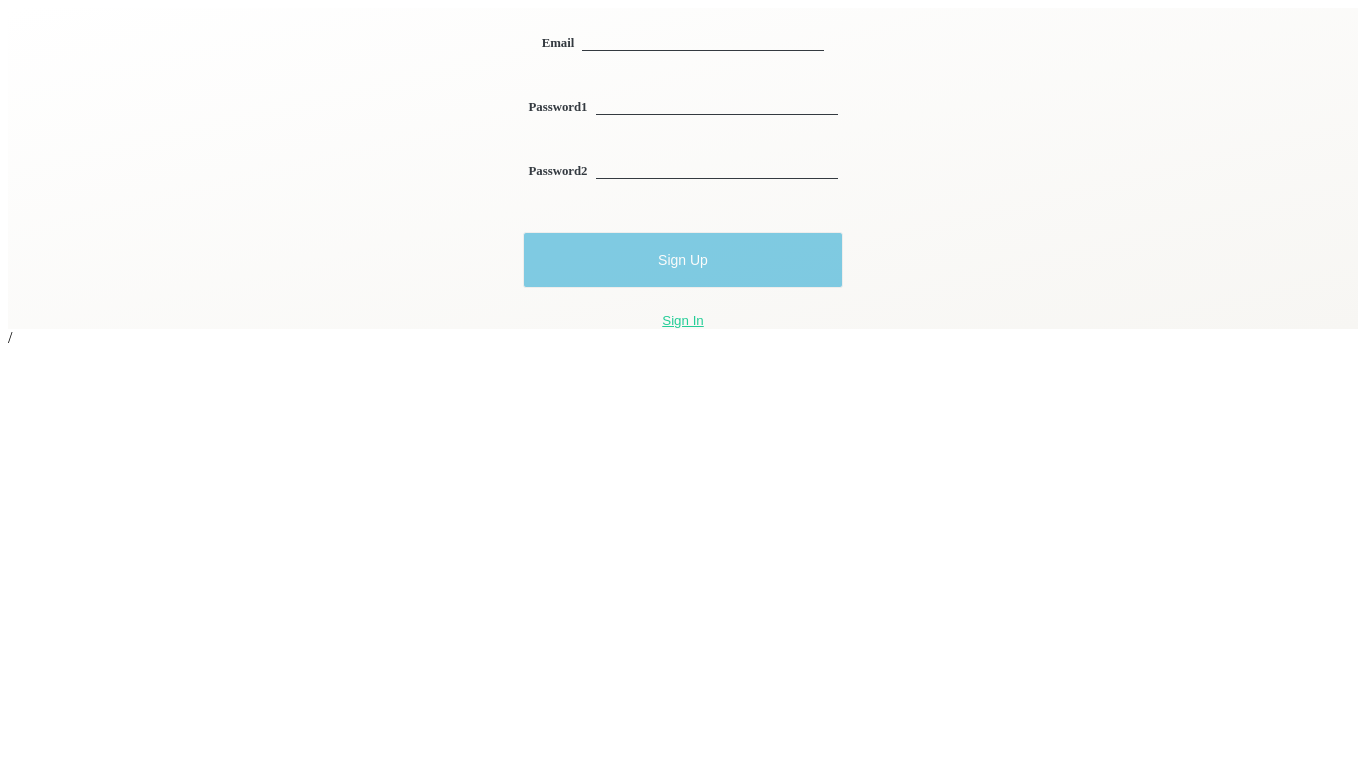
Test: [SignUp] Interaction › testing moving to the home when successfully signed up.
Type "hello@signup.com" into the field labelled "Email" at [703, 37], box [582,24,824,51]
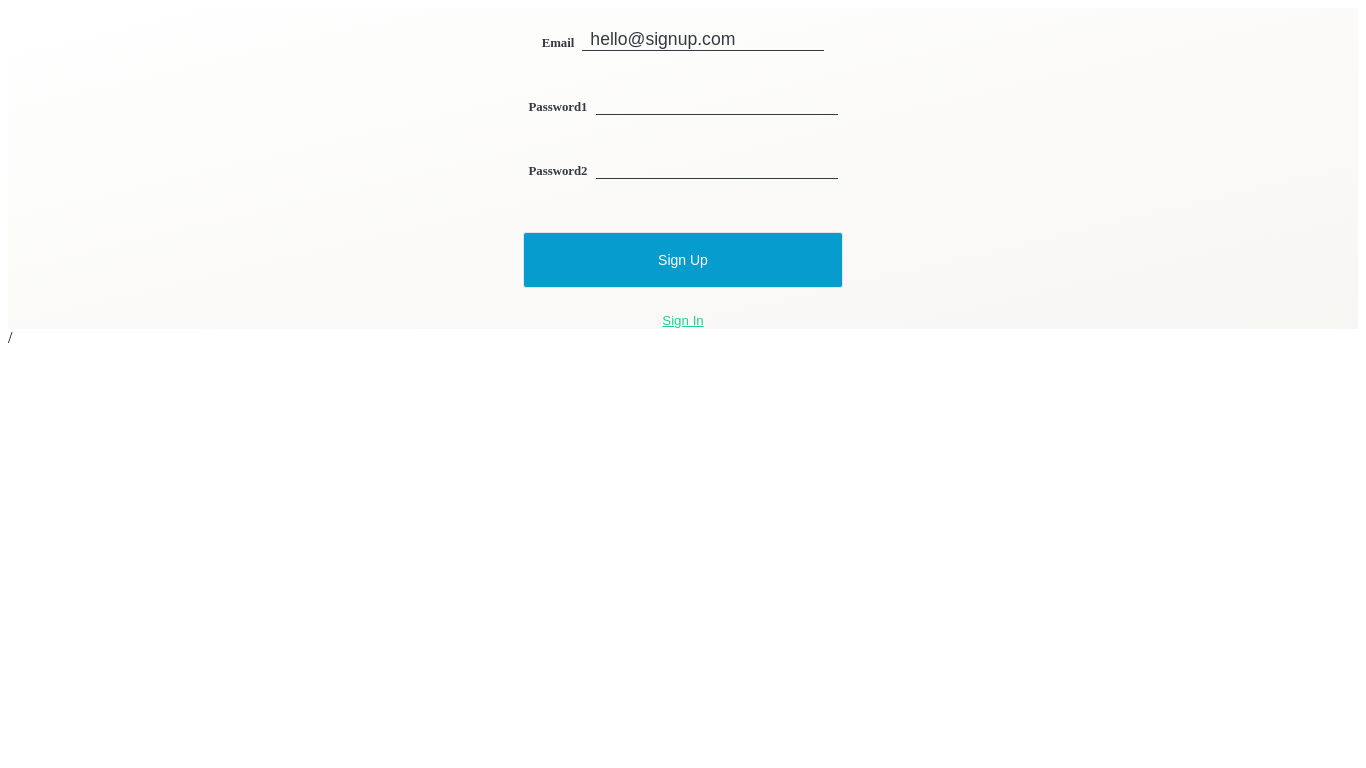
Type "hello@signup.com" into the password field labelled "Password1" at [716, 101], box [596,88,838,115]
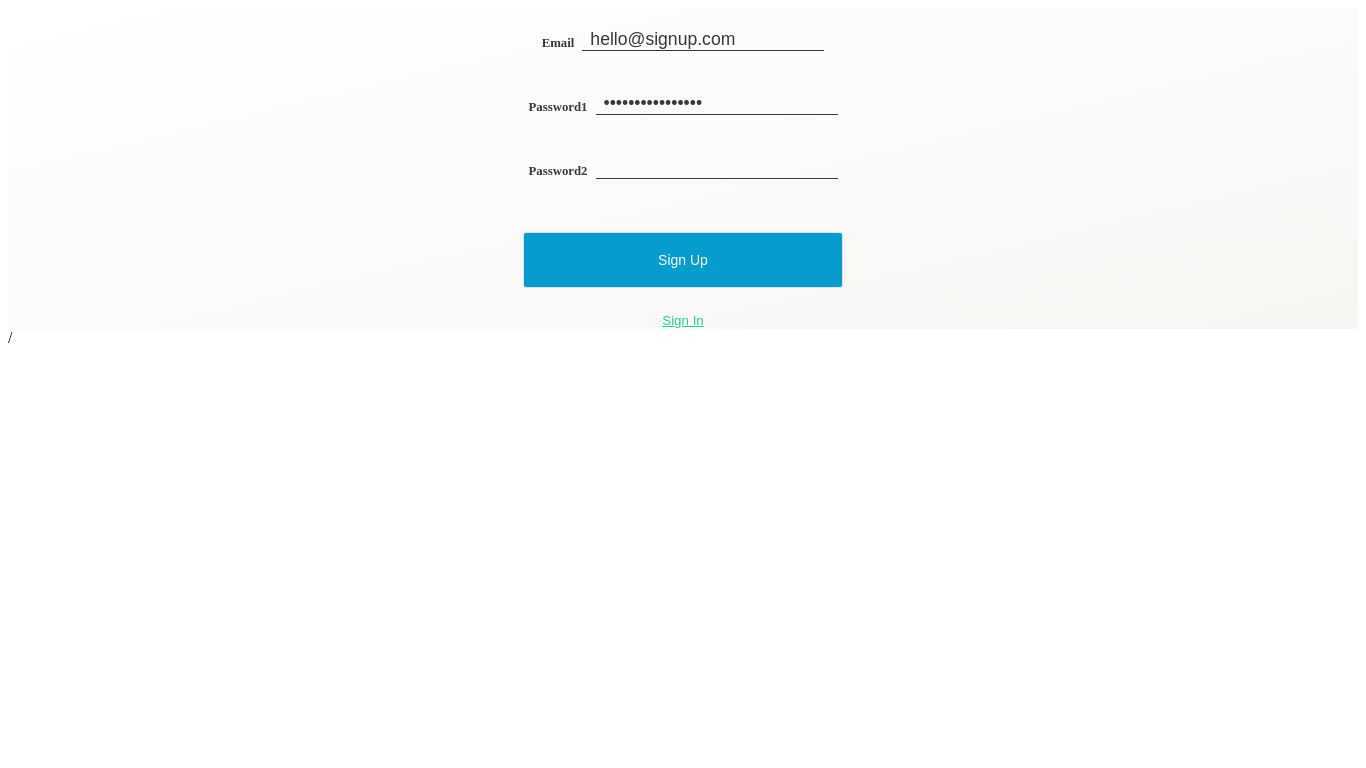
Type "hello@signup.com" into the password field labelled "Password2" at [716, 165], box [596,152,838,179]
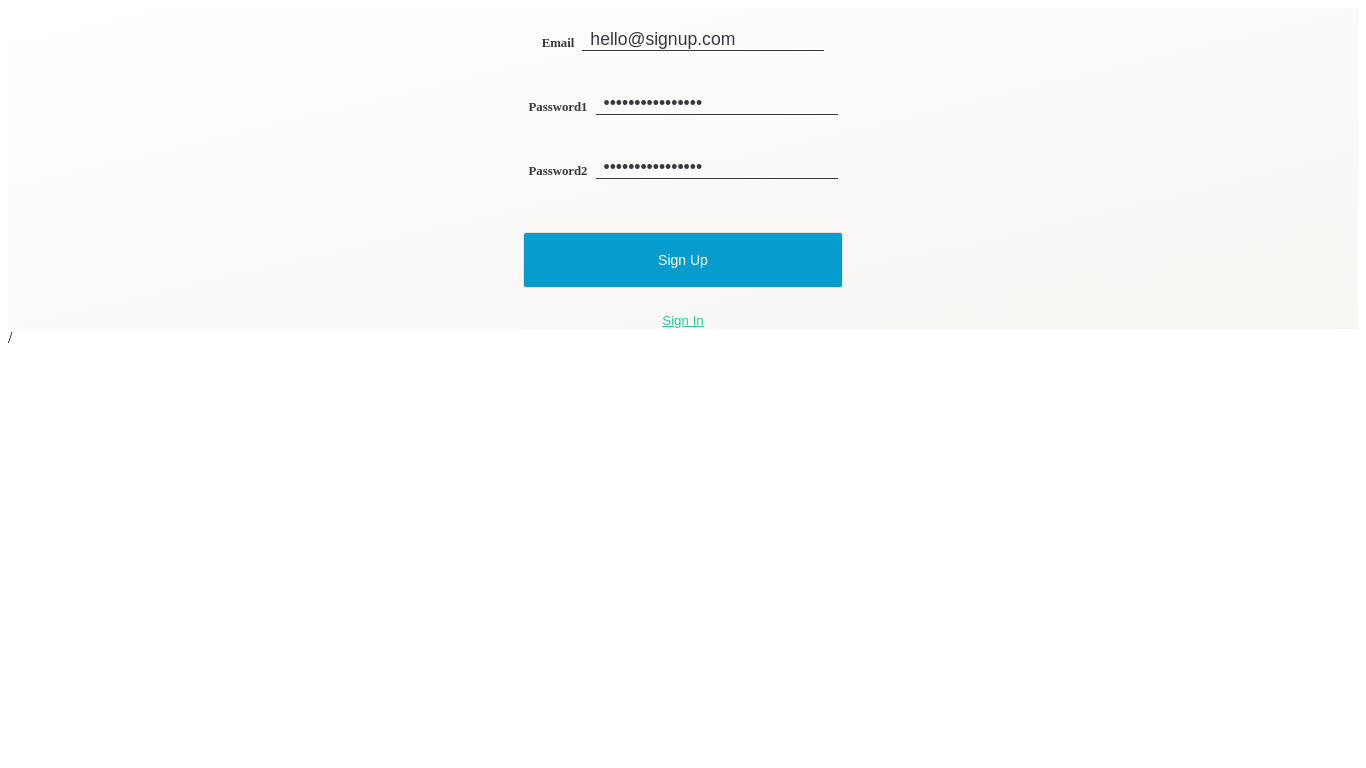
Click the button "Sign Up" at [683, 260], box [523,232,843,288]
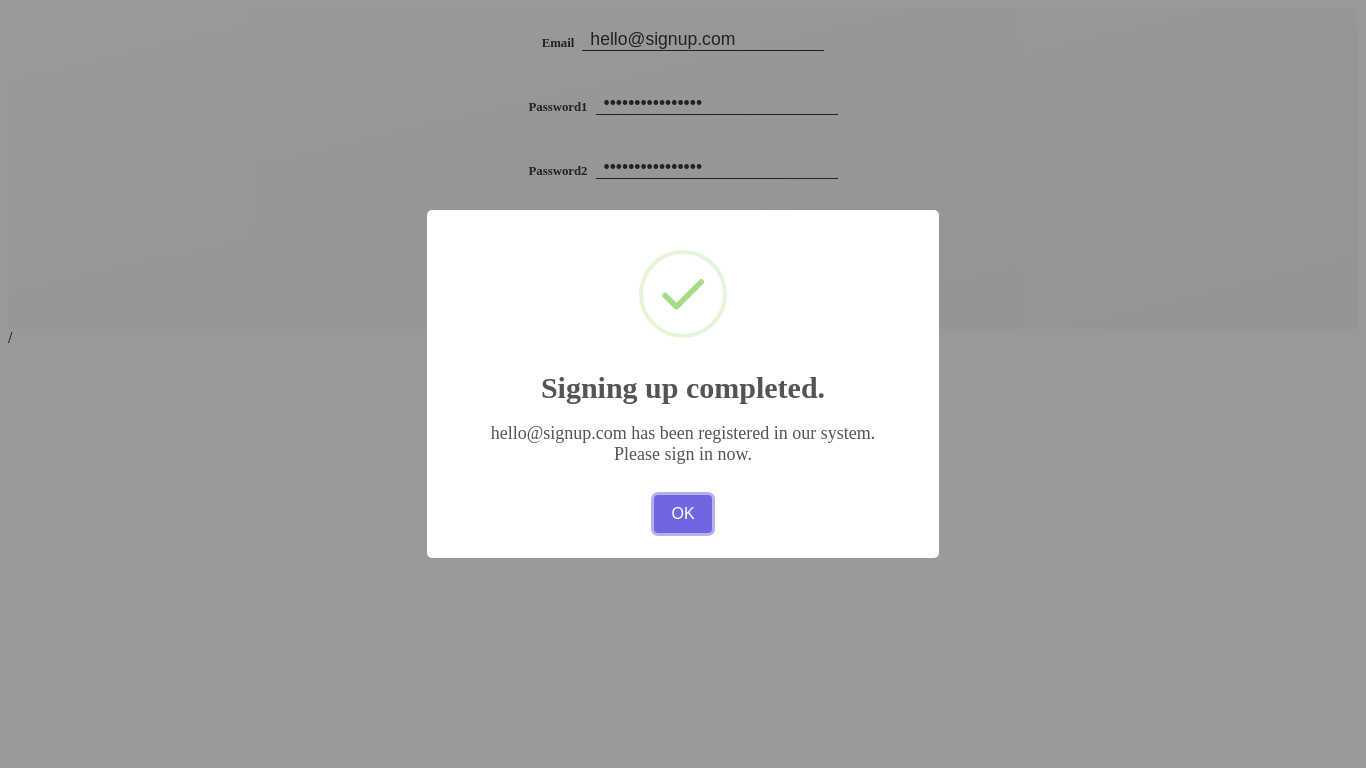
Click the button "OK" at [683, 514], box [654,496,712,534]
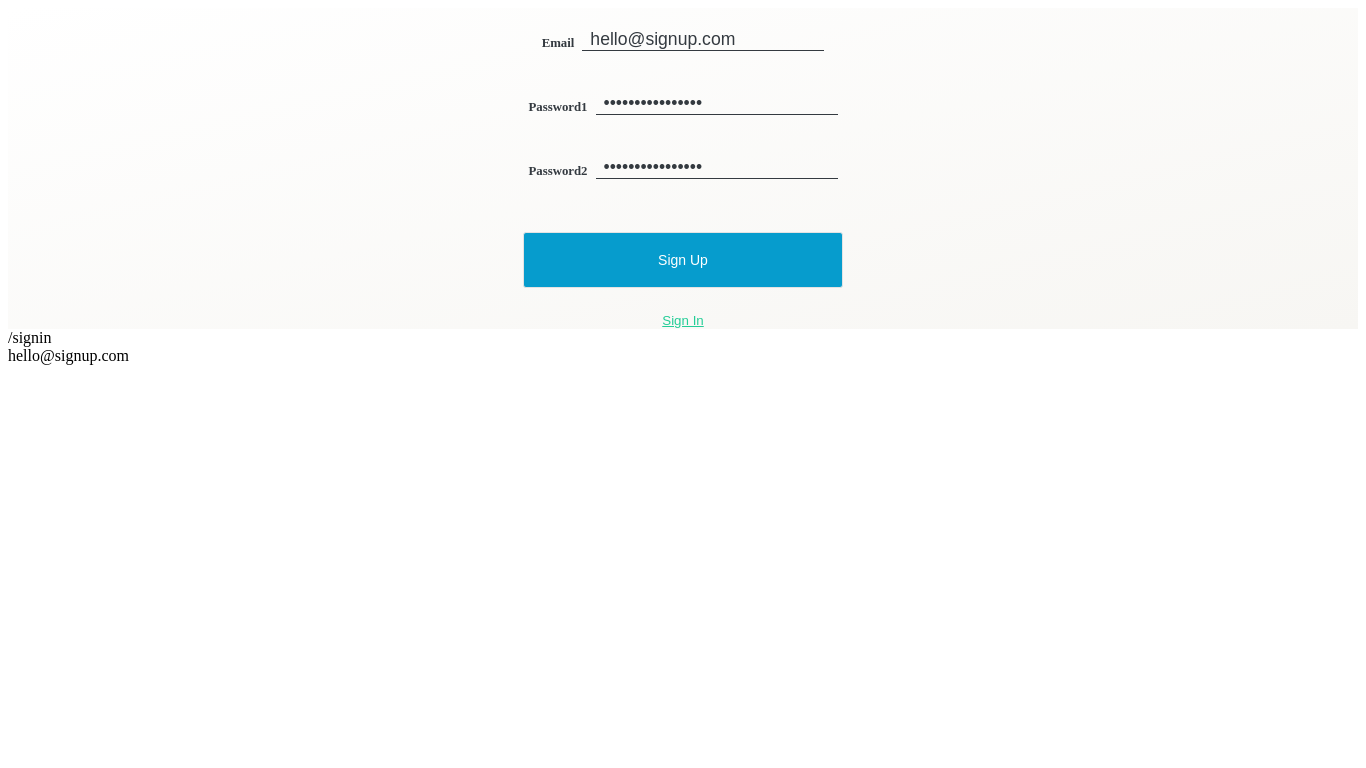
Now the text with test id "location-state-email" reads "hello@signup.com", box [8,347,129,364]
Now the text with test id "location-display" reads "/signin", box [8,329,52,346]
